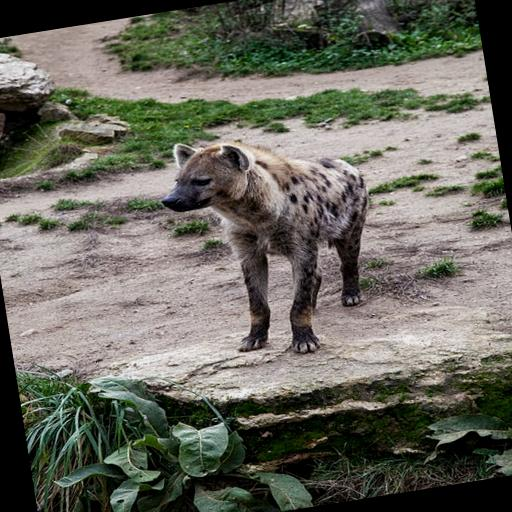hyenas: (20, 33, 407, 393)
